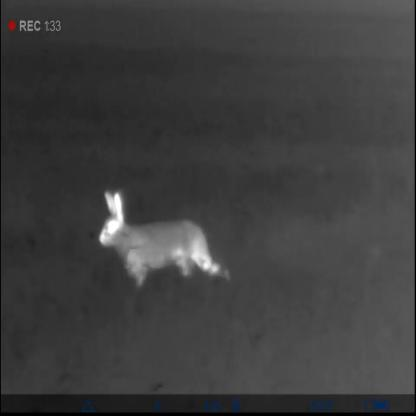rehkitze: (95, 192, 234, 290)
